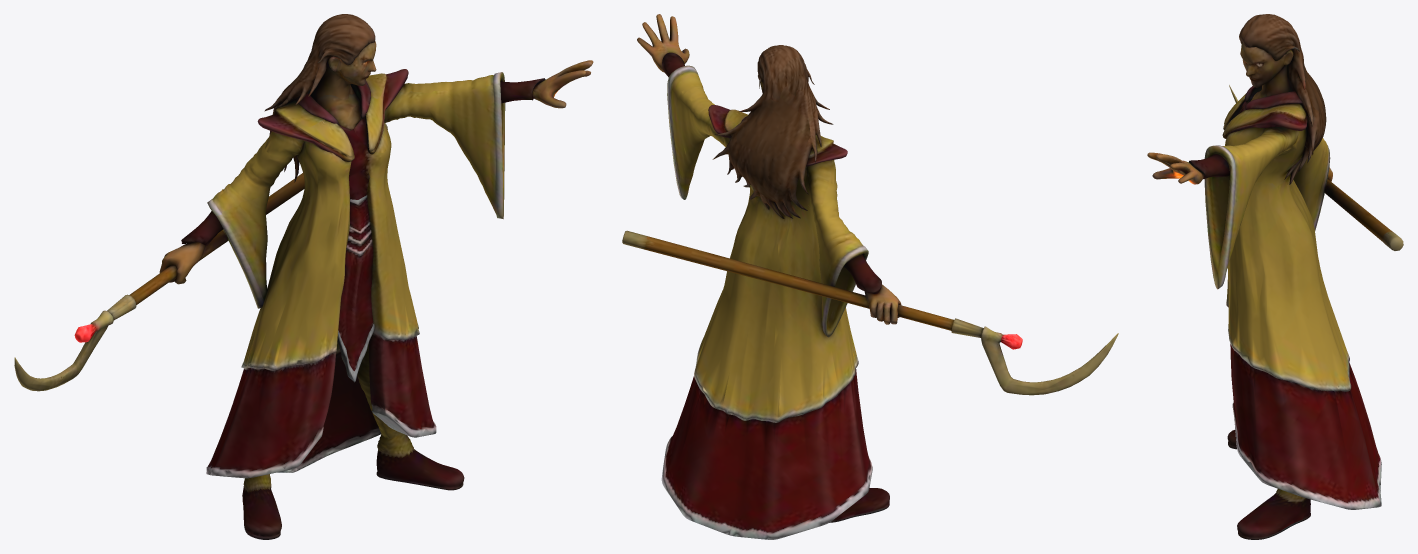
The model's file is MZ4250 - Human Female Evocation Wizard_2.glb.
3 views of the same model, side by side, from view 1: azimuth 30°, elevation 25°; view 2: azimuth 150°, elevation 25°; view 3: azimuth 270°, elevation 25° (orthographic). The views are drawn at different scales.
Parts seen in each view (by area): view 1: Body.001; view 2: Body.001; view 3: Body.001.
Part boxes in pixels (box(x1,y1,x2,y2)): Body.001: box(14, 14, 593, 539); Body.001: box(622, 14, 1118, 539); Body.001: box(1147, 14, 1403, 539).
Size of the model in its own units: 1.11 by 0.938 by 0.4577.
Materials: 1 (1 with a texture image).
